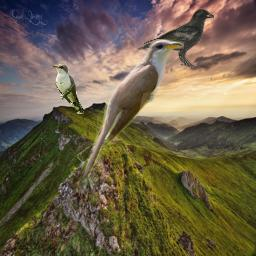Crow: (137, 8, 214, 68)
Cuckoo: (78, 39, 184, 186), (52, 63, 84, 114)
